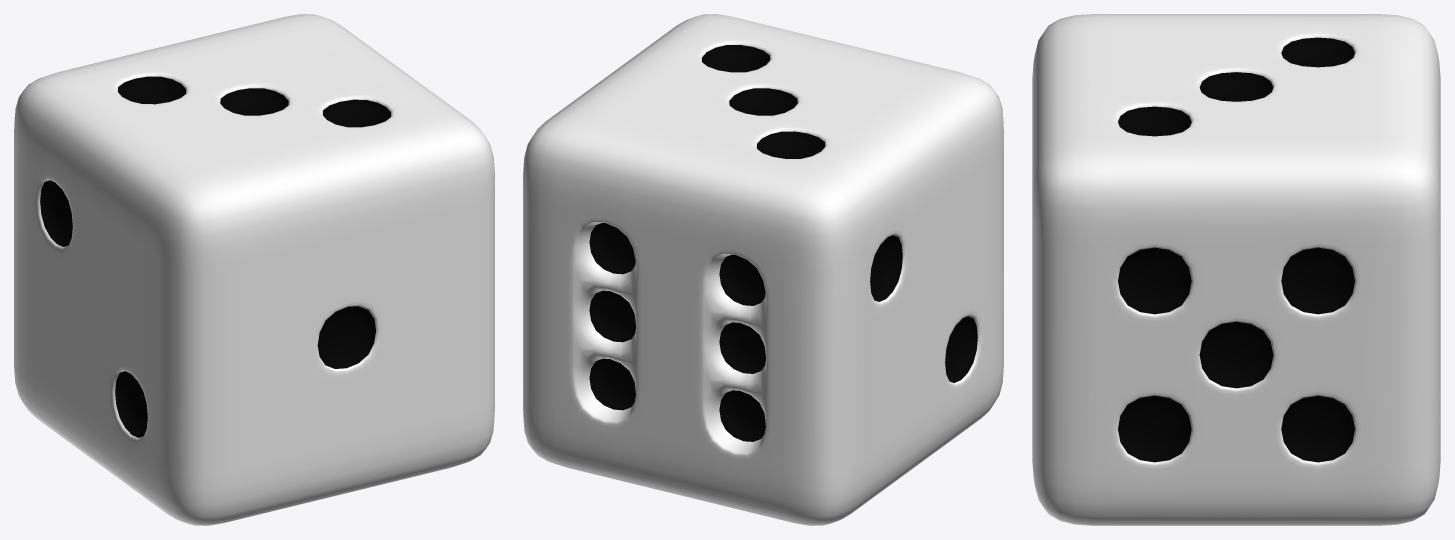
The model's file is diceRotating.fbx.
3 views of the same model, side by side, from view 1: azimuth 30°, elevation 25°; view 2: azimuth 150°, elevation 25°; view 3: azimuth 270°, elevation 25° (orthographic). The views are drawn at different scales.
Visible parts, largest first — view 1: pCube1; view 2: pCube1; view 3: pCube1.
Part boxes in pixels (x1=…): pCube1: x1=14, y1=14, x2=494, y2=525; pCube1: x1=523, y1=14, x2=1003, y2=525; pCube1: x1=1032, y1=14, x2=1440, y2=525.
Bounding box in the file's own units: 2.04 × 2.04 × 2.04.
1 material, 1 textured.
